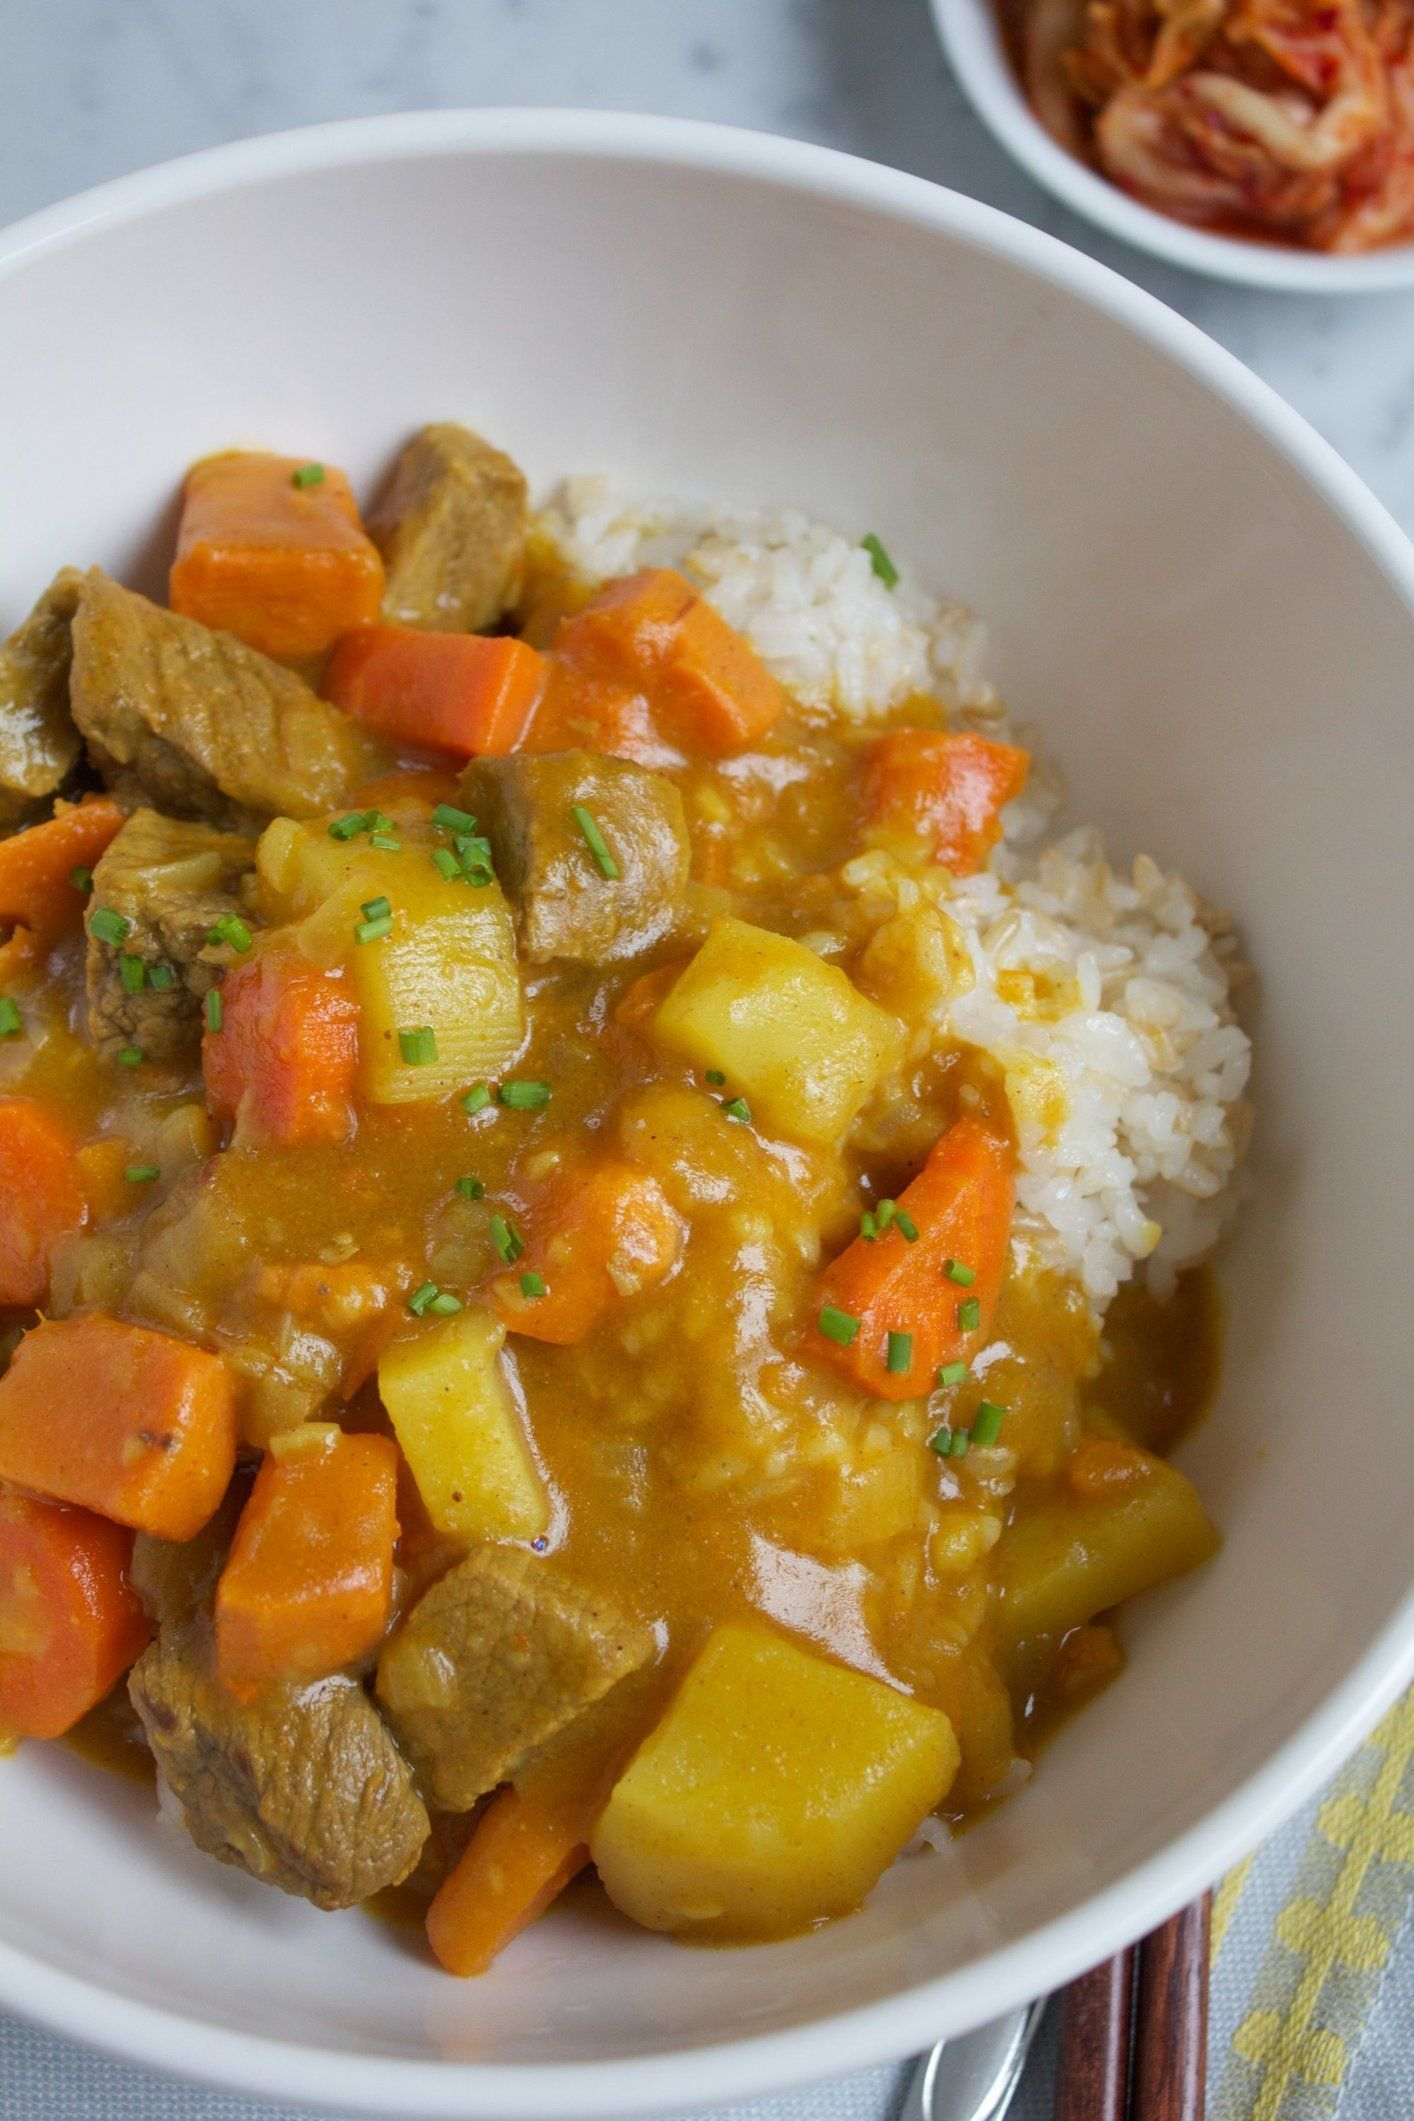curry: (24, 432, 982, 1845)
rice: (930, 855, 1285, 1221), (675, 552, 945, 694)
